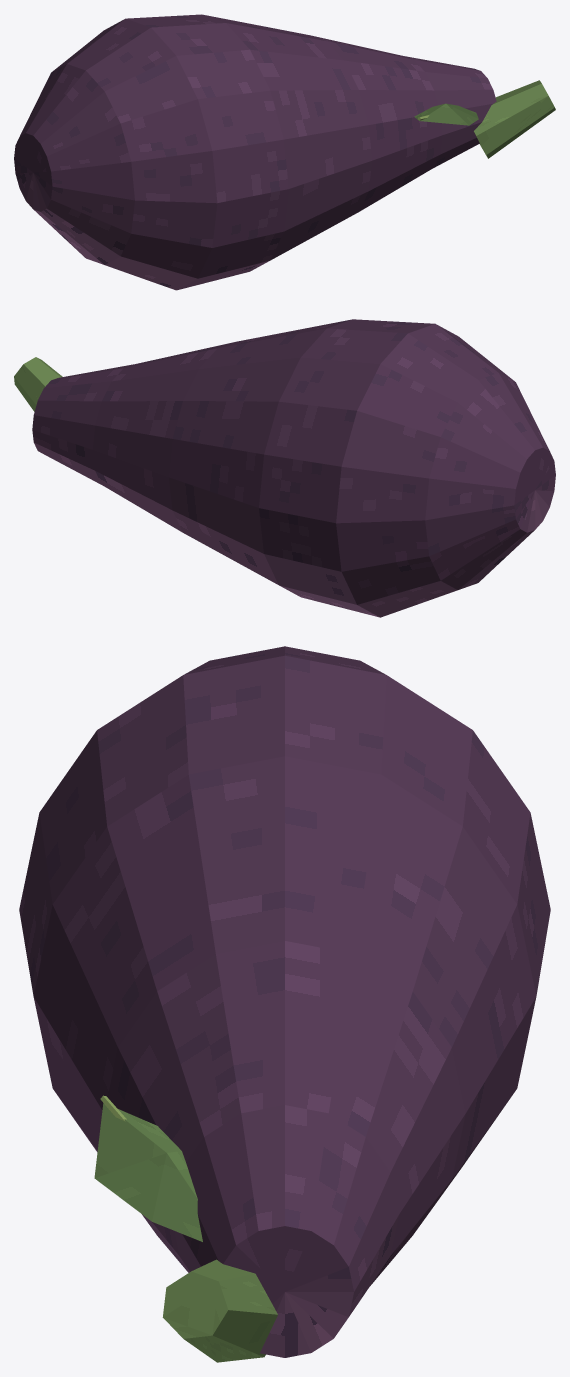
File: eggplant.glb
3 views of the same model, one above another, from view 1: azimuth 30°, elevation 25°; view 2: azimuth 150°, elevation 25°; view 3: azimuth 270°, elevation 25° (orthographic). The views are drawn at different scales.
Visible parts, largest first — view 1: block_continuous purple eggplant skin, block_curved peduncle, block_green eggplant calyx tip; view 2: block_continuous purple eggplant skin, block_curved peduncle; view 3: block_continuous purple eggplant skin, block_curved peduncle, block_green eggplant calyx blade, block_green eggplant calyx tip.
Part boxes in pixels (x1,y1,x2,y2): block_continuous purple eggplant skin: (14,14,496,290); block_curved peduncle: (474,80,555,158); block_green eggplant calyx tip: (420,103,468,125); block_continuous purple eggplant skin: (32,319,555,617); block_curved peduncle: (14,357,62,411); block_continuous purple eggplant skin: (19,646,550,1357); block_curved peduncle: (162,1259,277,1362); block_green eggplant calyx blade: (95,1153,202,1241); block_green eggplant calyx tip: (94,1103,166,1178).
Size of the model in its own units: 0.22 by 0.1069 by 0.1014.
Materials: 2 (2 with a texture image).
